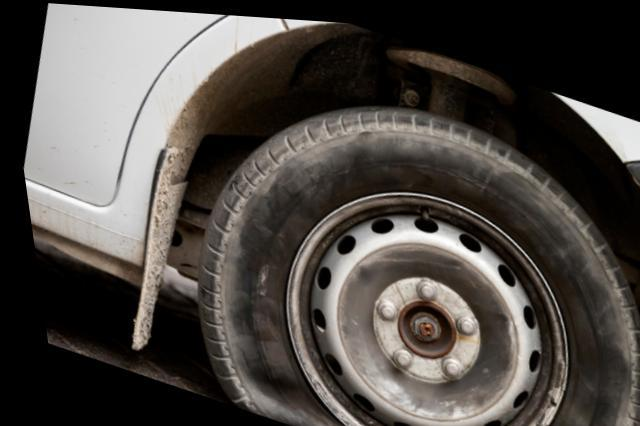tire flat: (189, 97, 638, 426)
